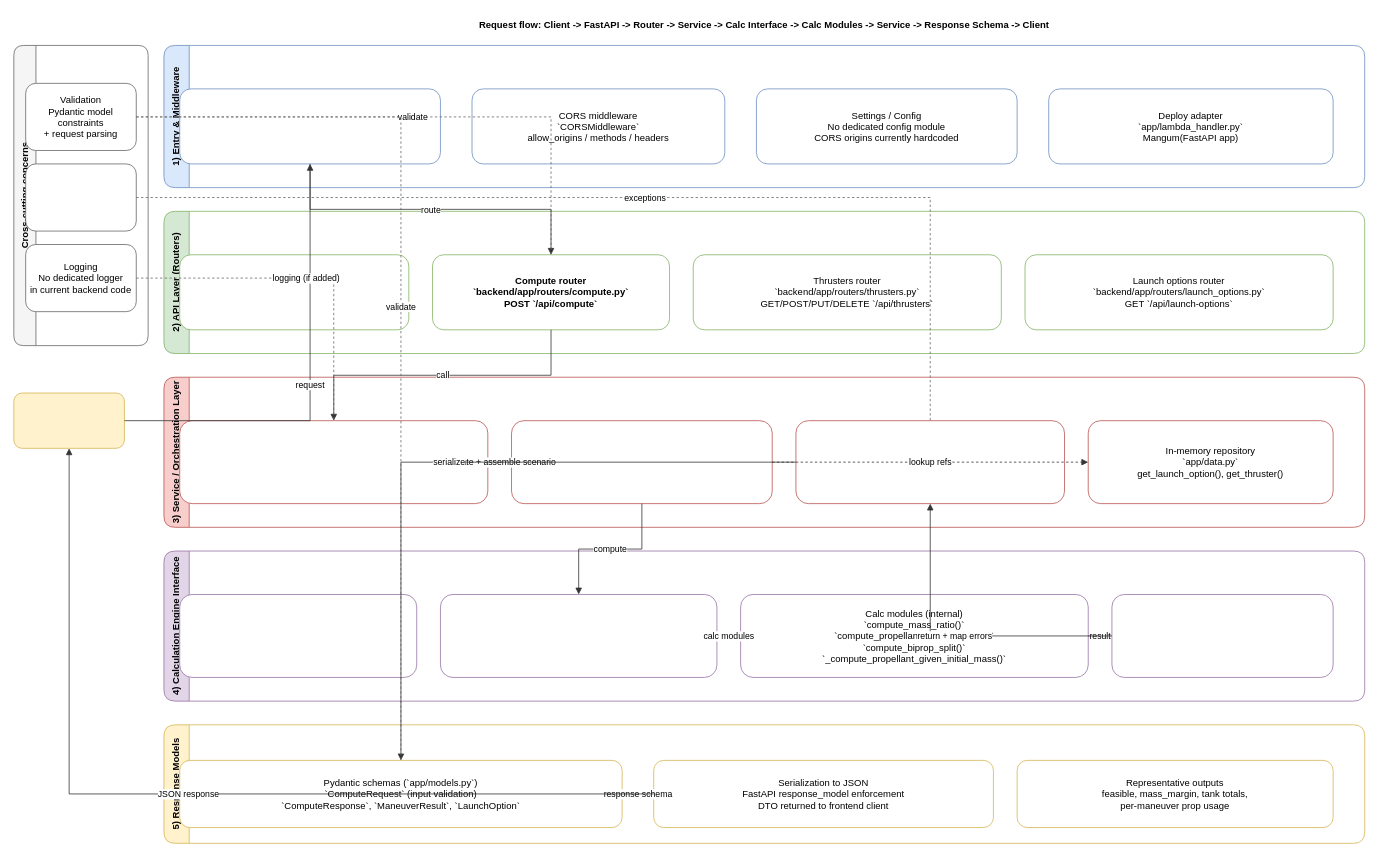
Some shapes in this 1379 by 857 pixel diagram are drawn without their labels. Each missing label, with the centre of its shape:
"`app/main.py` FastAPI app + lifespan startup: `init_default_thrusters()`" belongs at point 309,126.
"`compute_propellant_budget(request)` request orchestration + domain assembly" belongs at point 333,462.
"Calc boundary `app/services/prop_budget.py`" belongs at point 298,635.
"Client" belongs at point 68,420.
"Error mapping `ValueError` -> `HTTPException(422)` missing data -> 404 / 422" belongs at point 930,462.
"Exceptions `HTTPException` mapping 404 / 422 / 500 path" belongs at point 80,197.
"Health router `backend/app/routers/health.py` GET `/api/health`" belongs at point 294,292.
"Interface functions `solve_propellant_budget(...)` `check_feasibility(...)`" belongs at point 578,635.
"Return dataclasses `BudgetResult` + `ManeuverCalcResult[]`" belongs at point 1222,635.
"Scenario assembly validate launch option + thrusters build `ManeuverSpec[]`" belongs at point 641,462.
